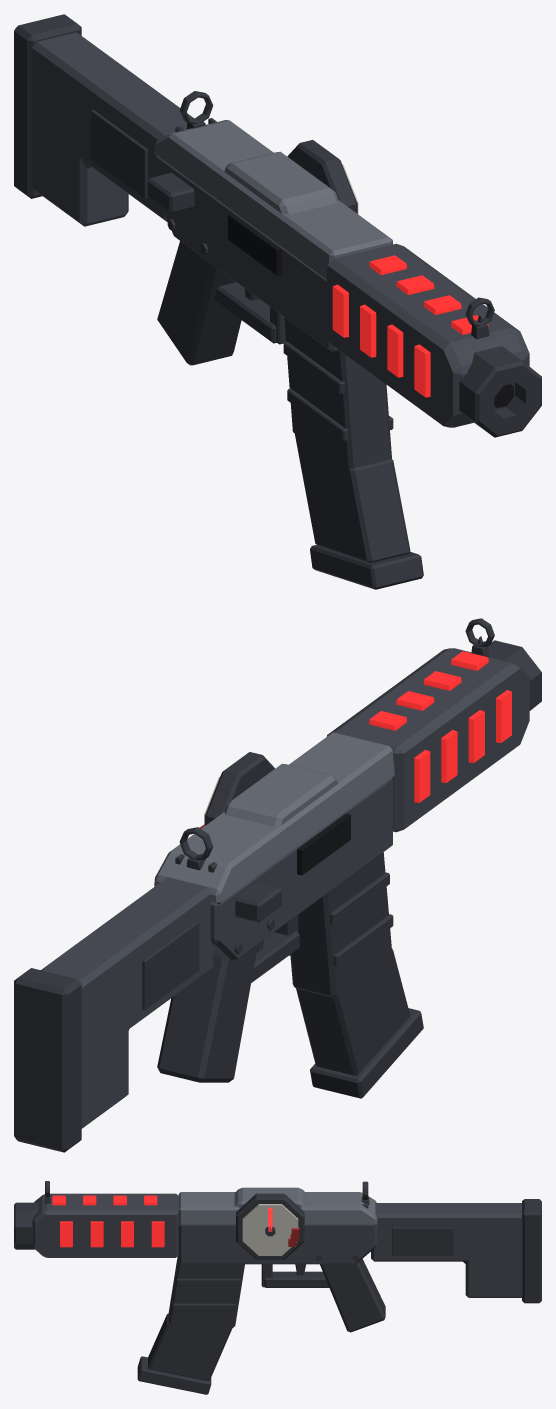
The model's file is w_redline.glb.
The picture shows the model from 3 angles, top to bottom: view 1: azimuth 30°, elevation 25°; view 2: azimuth 150°, elevation 25°; view 3: azimuth 270°, elevation 25°; orthographic projection. The views are drawn at different scales.
Visible parts, largest first — view 1: mag_wzB__dark__p353840, stock_wzA__frame__p444851, guard_wzB__frame__p444851, cover_wzA__deck__p676d78, body_wzB__frame__p444851, grip_wzB__dark__p353840, barrel_wzB__dark__p353840, redline_vents_wzN__vent__na81f1f, stock_wzB__dark__p353840, mag_wzN__dark__p353840, stock_wzN__dark__p353840, gauge_wzN__dark__p353840 (+3 smaller); view 2: mag_wzB__dark__p353840, cover_wzA__deck__p676d78, stock_wzA__frame__p444851, guard_wzB__frame__p444851, stock_wzB__dark__p353840, grip_wzB__dark__p353840, body_wzB__frame__p444851, redline_vents_wzN__vent__na81f1f, stock_wzN__dark__p353840, mag_wzN__dark__p353840, gauge_wzN__dark__p353840, trim_wzN__black__p16171b (+3 smaller); view 3: stock_wzA__frame__p444851, mag_wzB__dark__p353840, guard_wzB__frame__p444851, body_wzB__frame__p444851, cover_wzA__deck__p676d78, grip_wzB__dark__p353840, gauge_wzN__white__pbdbbb2, stock_wzB__dark__p353840, redline_vents_wzN__vent__na81f1f, stock_wzN__dark__p353840, gauge_wzN__dark__p353840, mag_wzN__dark__p353840 (+2 smaller).
Boxes of the visible parts, x1,y1,x2,y2 form: mag_wzB__dark__p353840: (283, 317, 410, 562); stock_wzA__frame__p444851: (31, 32, 193, 226); guard_wzB__frame__p444851: (327, 243, 529, 427); cover_wzA__deck__p676d78: (154, 120, 392, 279); body_wzB__frame__p444851: (156, 156, 339, 352); grip_wzB__dark__p353840: (157, 241, 285, 365); barrel_wzB__dark__p353840: (459, 346, 541, 437); redline_vents_wzN__vent__na81f1f: (332, 255, 488, 397); stock_wzB__dark__p353840: (14, 14, 81, 198); mag_wzN__dark__p353840: (310, 545, 423, 589); stock_wzN__dark__p353840: (91, 110, 147, 198); gauge_wzN__dark__p353840: (167, 140, 357, 254); mag_wzB__dark__p353840: (289, 852, 410, 1075); cover_wzA__deck__p676d78: (154, 732, 394, 904); stock_wzA__frame__p444851: (41, 877, 213, 1128); guard_wzB__frame__p444851: (327, 648, 529, 832); stock_wzB__dark__p353840: (14, 968, 81, 1152); grip_wzB__dark__p353840: (157, 915, 299, 1082); body_wzB__frame__p444851: (210, 778, 392, 960); redline_vents_wzN__vent__na81f1f: (369, 651, 511, 802); stock_wzN__dark__p353840: (142, 921, 199, 1010); mag_wzN__dark__p353840: (310, 1008, 423, 1098); gauge_wzN__dark__p353840: (205, 752, 274, 954); trim_wzN__black__p16171b: (297, 813, 350, 875); stock_wzA__frame__p444851: (371, 1203, 522, 1297); mag_wzB__dark__p353840: (148, 1256, 244, 1380); guard_wzB__frame__p444851: (32, 1193, 178, 1257); body_wzB__frame__p444851: (178, 1224, 377, 1264); cover_wzA__deck__p676d78: (178, 1187, 377, 1225); grip_wzB__dark__p353840: (261, 1259, 385, 1332); gauge_wzN__white__pbdbbb2: (242, 1204, 298, 1255); stock_wzB__dark__p353840: (522, 1199, 541, 1303); redline_vents_wzN__vent__na81f1f: (52, 1195, 164, 1247); stock_wzN__dark__p353840: (392, 1227, 453, 1255); gauge_wzN__dark__p353840: (236, 1193, 358, 1260); mag_wzN__dark__p353840: (137, 1356, 211, 1394).
Bounding box in the file's own units: 0.1205 × 0.3745 × 0.865.
